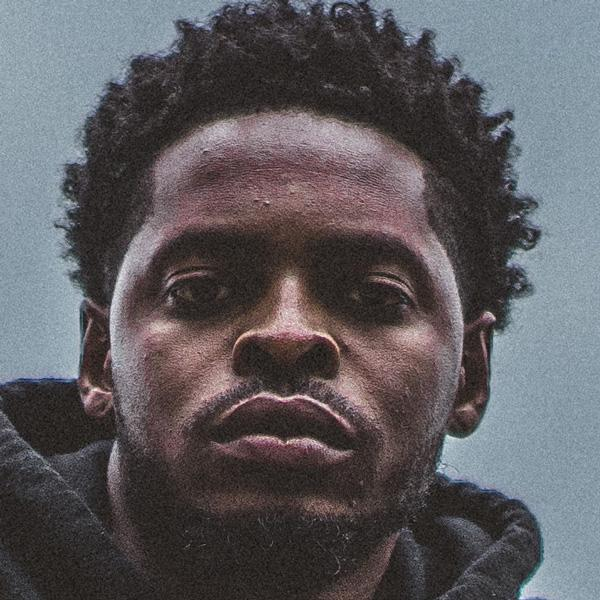Eyes: (151, 258, 247, 318), (330, 262, 416, 324)
